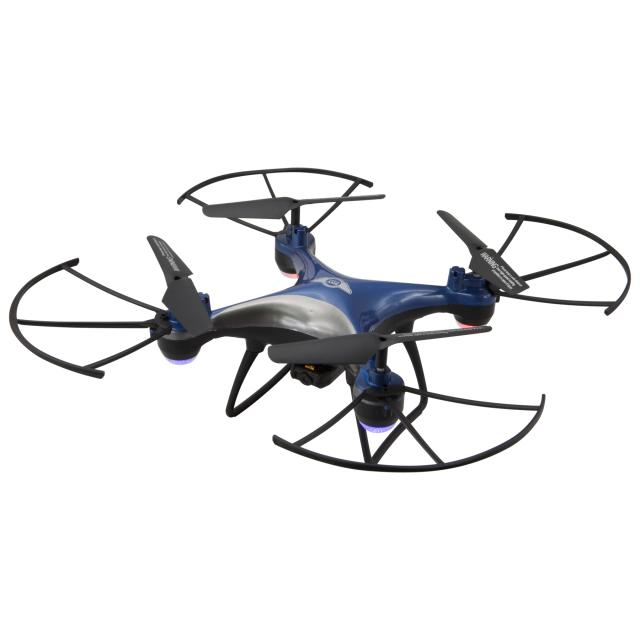drone: (14, 173, 640, 502)
